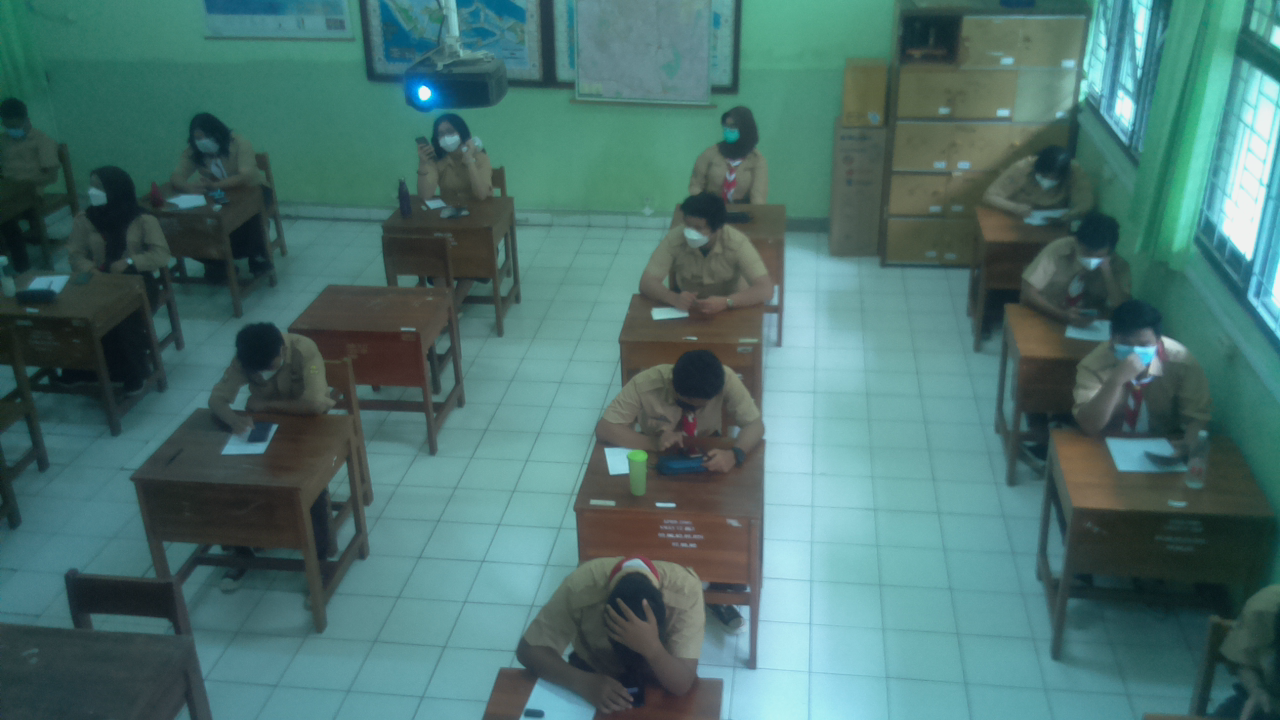Student: (559, 555, 701, 703), (1085, 303, 1204, 433), (623, 347, 750, 441), (655, 189, 759, 298), (75, 165, 167, 272), (223, 321, 324, 413), (1035, 211, 1121, 308), (411, 115, 496, 198), (691, 107, 762, 204), (995, 151, 1087, 213), (181, 115, 258, 189), (0, 97, 65, 181)
